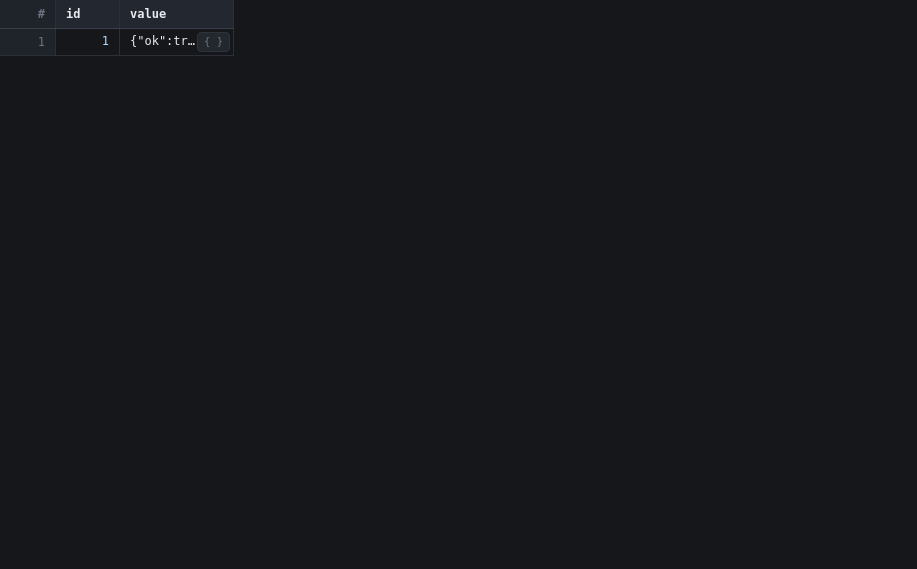
DataGrid DOM behavior › opens from pointerdown on the expander center (not only edges)
The width and height of the screenshot is (917, 569).
Press the mouse on the button titled "View formatted" at (214, 42), box [197, 32, 230, 52]
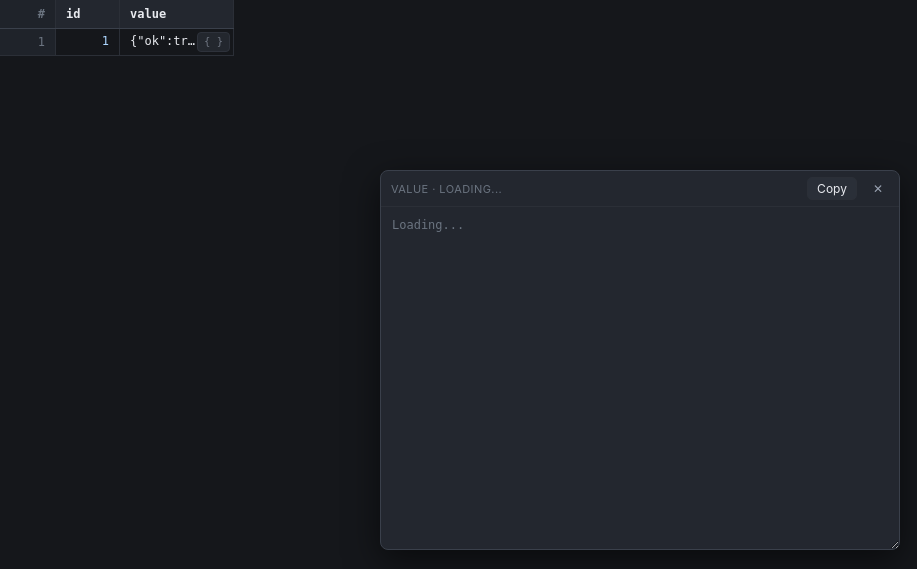
Now the element with test id "structured-value-viewer" is shown, box [380, 170, 900, 550]
Now the text with class "gc-json-body" reads "Loading...", box [392, 218, 464, 232]
